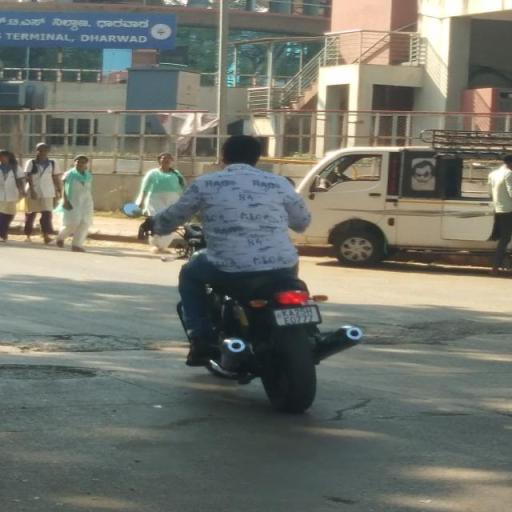bike: (113, 130, 367, 420)
numberplate: (268, 297, 326, 330)
withouthelmet: (223, 135, 261, 165)
